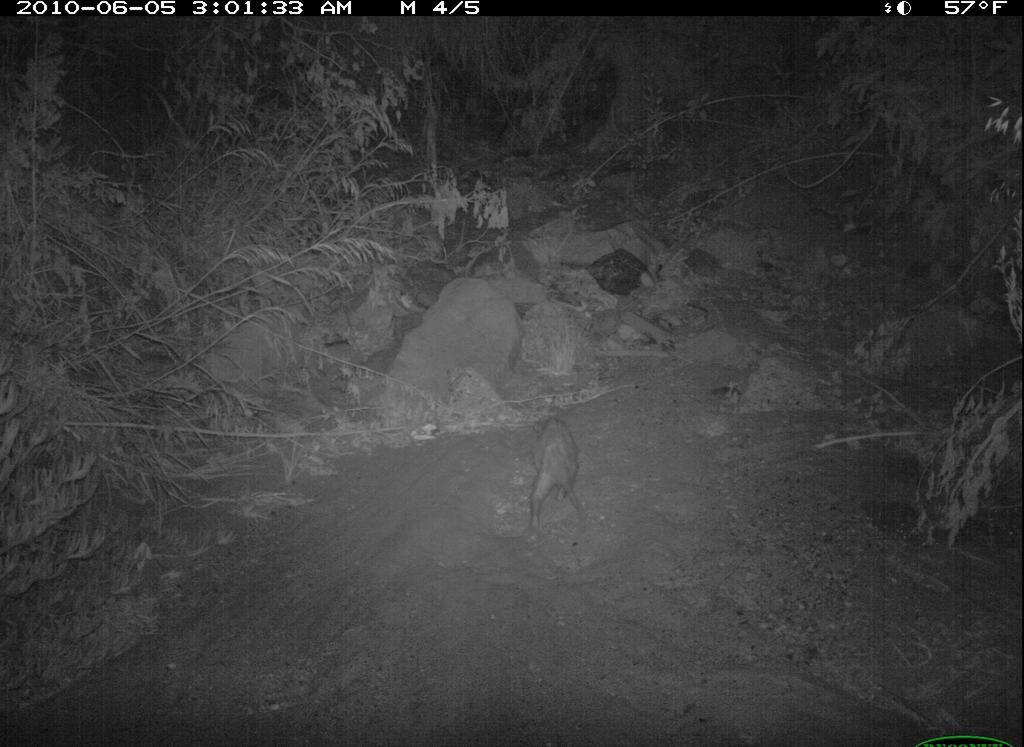opossum: (507, 402, 606, 542)
